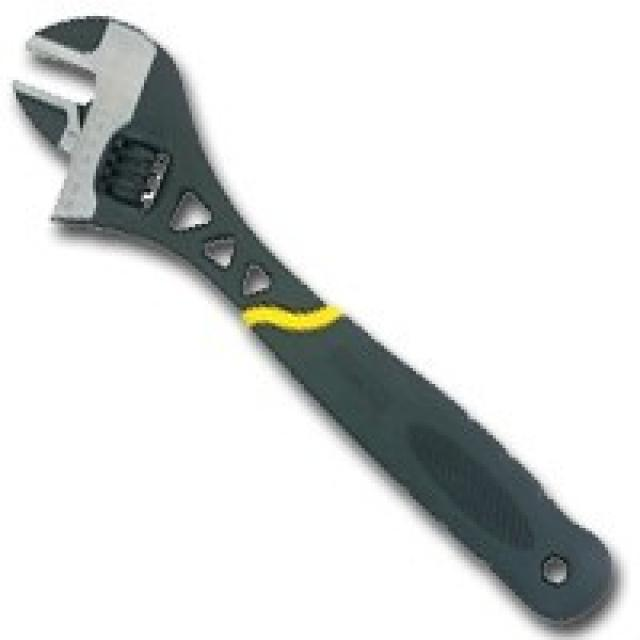wrench: (6, 3, 620, 636)
